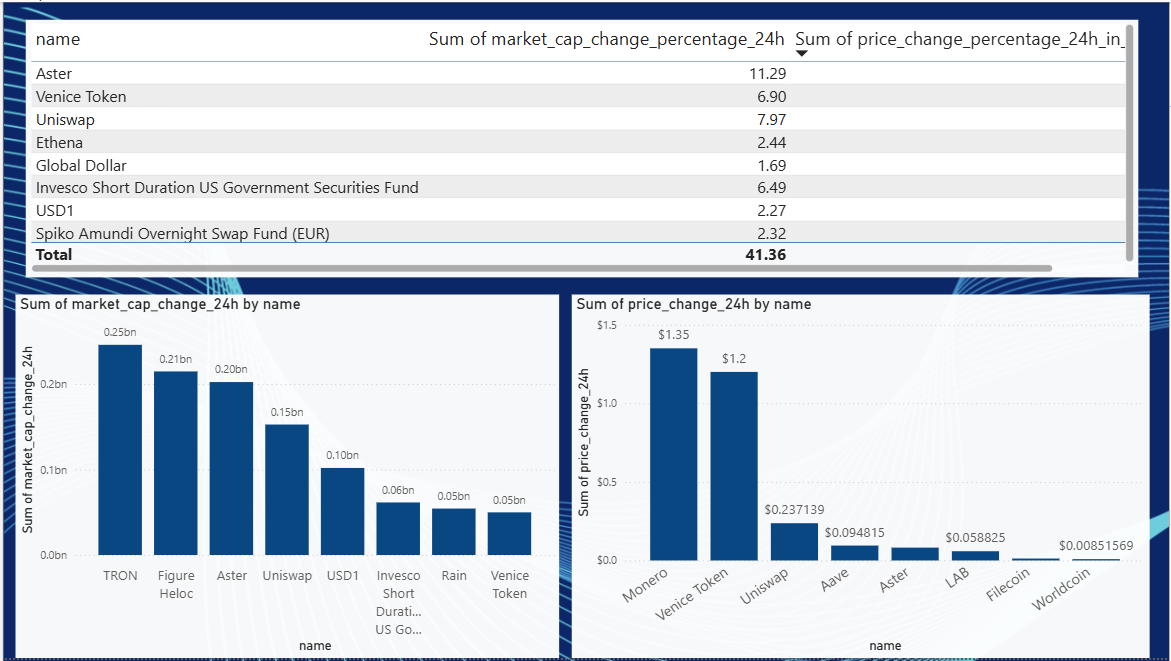

This screenshot's page, from the dashboard's own definition file:
{"tool":"powerbi","page":{"name":"LAST 24hrs PERFORMANCE","canvas":[1280,720],"ordinal":3},"visuals":[{"type":"columnChart","fields":{"Y":["Sum(Query.market_cap_change_24h)"],"Category":["Query.name"]},"box":[13.1,320.5,596.8,399],"z":0},{"type":"columnChart","fields":{"Y":["Sum(Query.price_change_24h)"],"Category":["Query.name"]},"box":[624.6,320.5,634.4,399],"z":1000},{"type":"tableEx","fields":{"Values":["Query.name","Sum(Query.market_cap_change_percentage_24h)","Sum(Query.price_change_percentage_24h_in_currency)"]},"box":[24.5,19.6,1221.5,282.9],"z":2000}]}

Visuals, with their boxes in screenshot pixels (x1, y1, x2, y2), scaled from the page's 1280x720 canvas onto the 1171x661 screenshot:
columnChart - Sum(Query.market_cap_change_24h) x Query.name: locate(12, 294, 558, 660)
columnChart - Sum(Query.price_change_24h) x Query.name: locate(571, 294, 1152, 660)
tableEx - Query.name x Sum(Query.market_cap_change_percentage_24h): locate(22, 18, 1140, 278)
